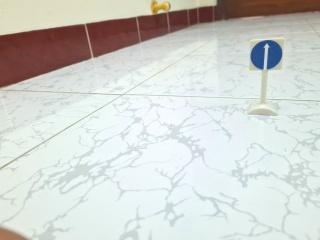straight: (248, 38, 285, 72)
